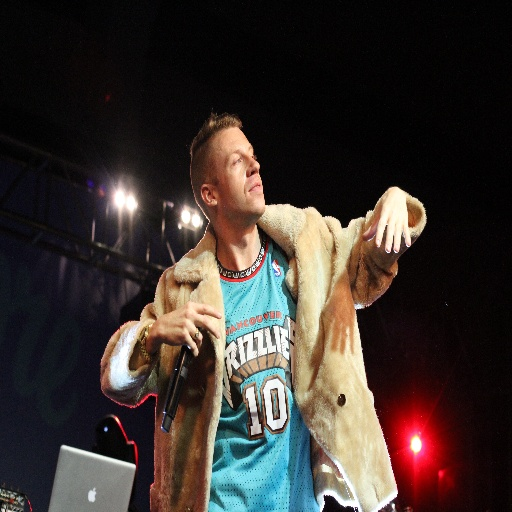hand: (367, 181, 424, 272), (154, 297, 222, 362)
